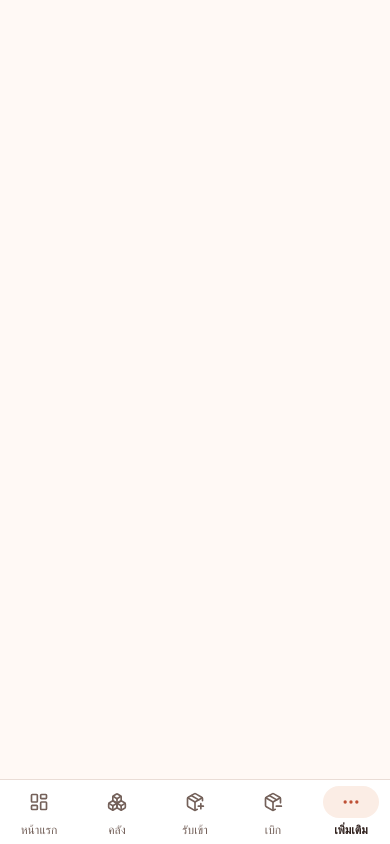
Test: navigation › bottom bar has the five primary destinations and an accessible More menu
expect the links read "หน้าแรก", "คลัง", "รับเข้า", "เบิก", in this order: met, box [21,792,57,838]; [107,792,127,838]; [182,792,208,838]; [263,792,283,838]
Click the button "เพิ่มเติม" at [351, 812], box [312,780,389,843]
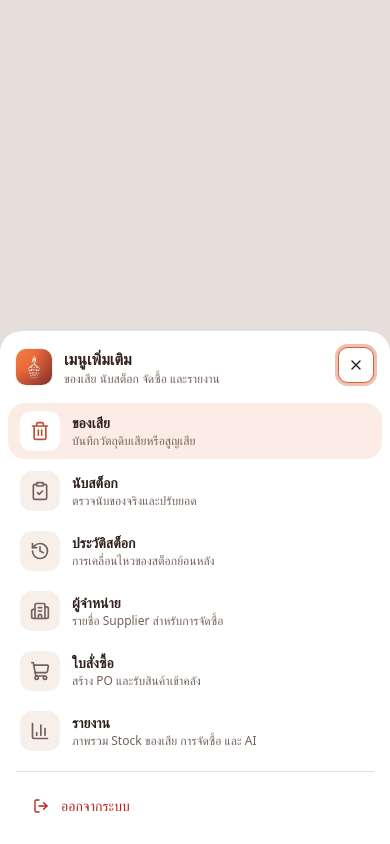
expect the heading "เมนูเพิ่มเติม" is shown: met, box [64,348,132,370]
expect the link "ของเสีย บันทึกวัตถุดิบเสียหรือสูญเสีย" is shown: met, box [8,403,382,459]
expect the button "ออกจากระบบ" is shown: met, box [16,784,374,828]
